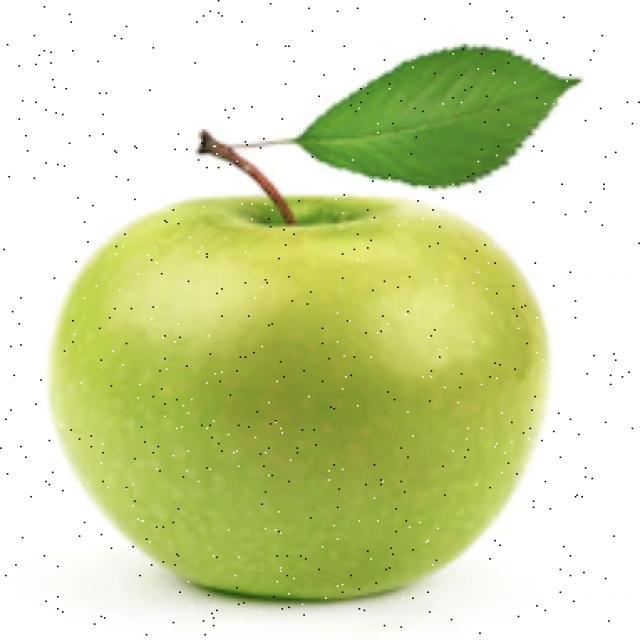Fresh Apple: (63, 206, 552, 602)
